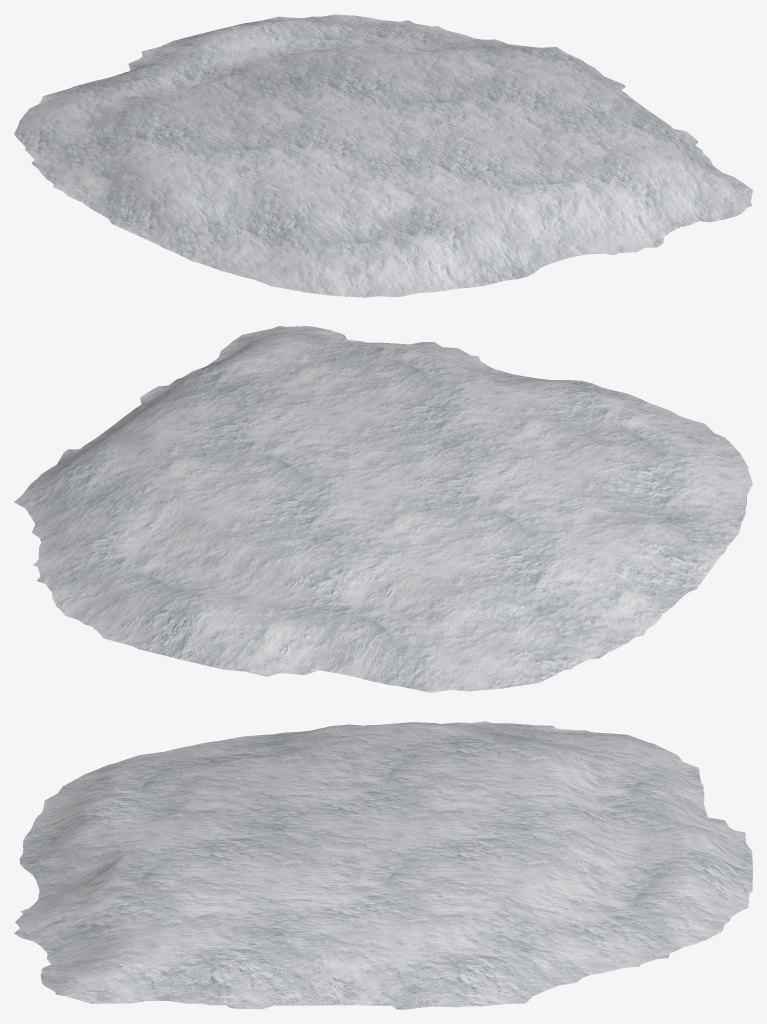
Rendered from Custom_Model_4b8f3f-transformed.glb.
3 renders of one model, top to bottom at view 1: azimuth 30°, elevation 25°; view 2: azimuth 150°, elevation 25°; view 3: azimuth 270°, elevation 25°, orthographic. The views are drawn at different scales.
Parts seen in each view (by area): view 1: Plane; view 2: Plane; view 3: Plane.
Part boxes in pixels (x1,y1,x2,y2): Plane: (14,14,752,297); Plane: (14,326,752,692); Plane: (14,721,752,1009).
Bounding box in the file's own units: 6.58 × 0.3675 × 7.13.
Materials: 1 (1 with a texture image).
